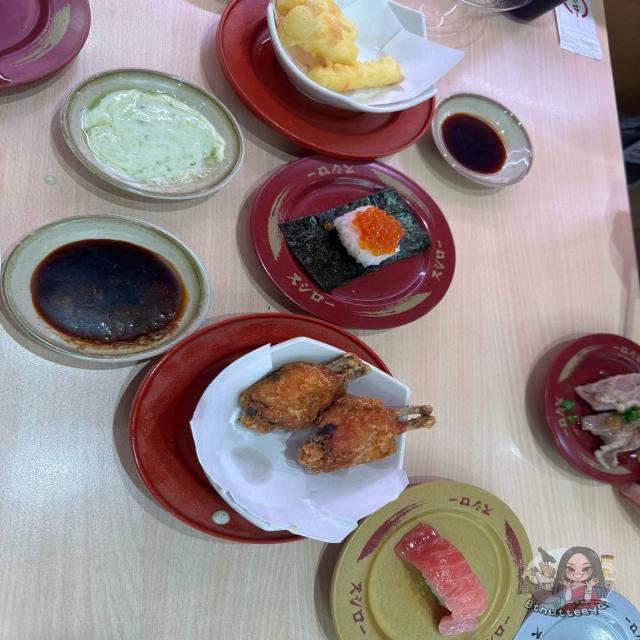jangold: (328, 497, 535, 640)
janred: (119, 318, 437, 502), (262, 160, 470, 312), (227, 14, 425, 160), (540, 353, 640, 479), (0, 0, 105, 98)
janwoven: (532, 573, 640, 640)
